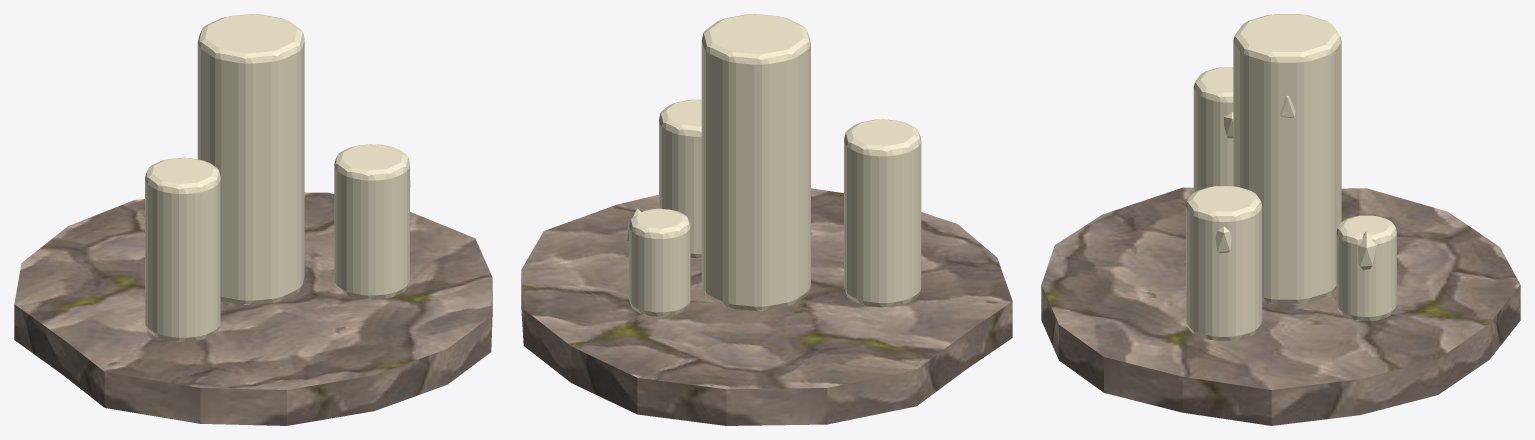
The model's file is candle_cluster.glb.
3 views of the same model, side by side, from view 1: azimuth 30°, elevation 25°; view 2: azimuth 150°, elevation 25°; view 3: azimuth 270°, elevation 25° (orthographic). The views are drawn at different scales.
Visible parts, largest first — view 1: model; view 2: model; view 3: model.
Boxes of the visible parts, bbox=[...] form: model: bbox=[14, 14, 492, 425]; model: bbox=[521, 14, 1012, 425]; model: bbox=[1041, 14, 1520, 425].
Bounding box in the file's own units: 0.6046 × 0.4 × 0.6045.
Materials: 2 (1 with a texture image).
